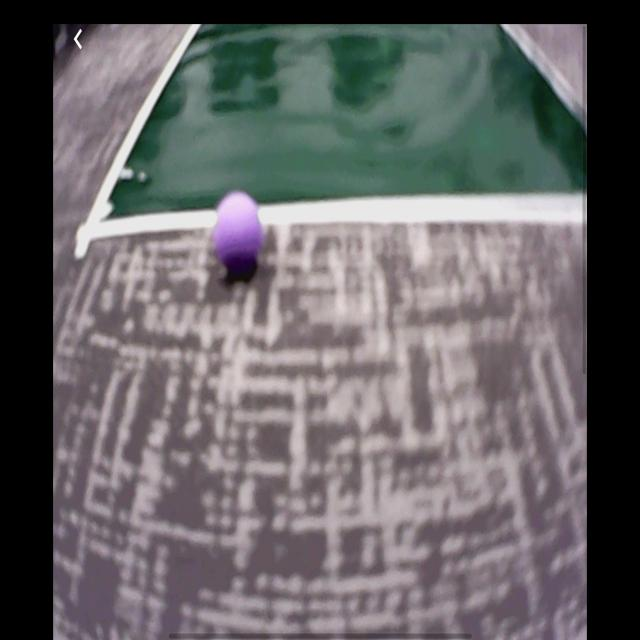ball: (211, 189, 264, 280)
